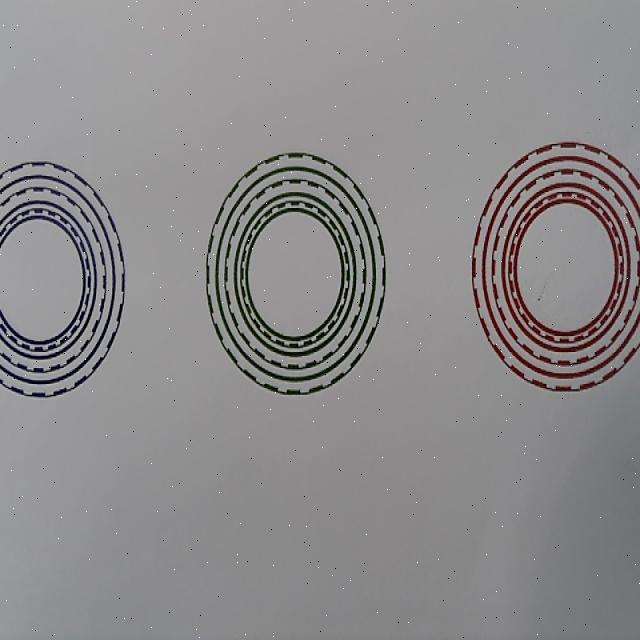g: (206, 152, 386, 396)
